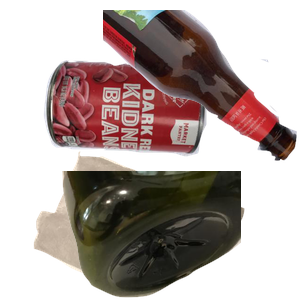glass: (103, 10, 300, 163)
metal: (41, 58, 240, 207)
plastic: (60, 171, 300, 300)
trash: (31, 149, 268, 300)
